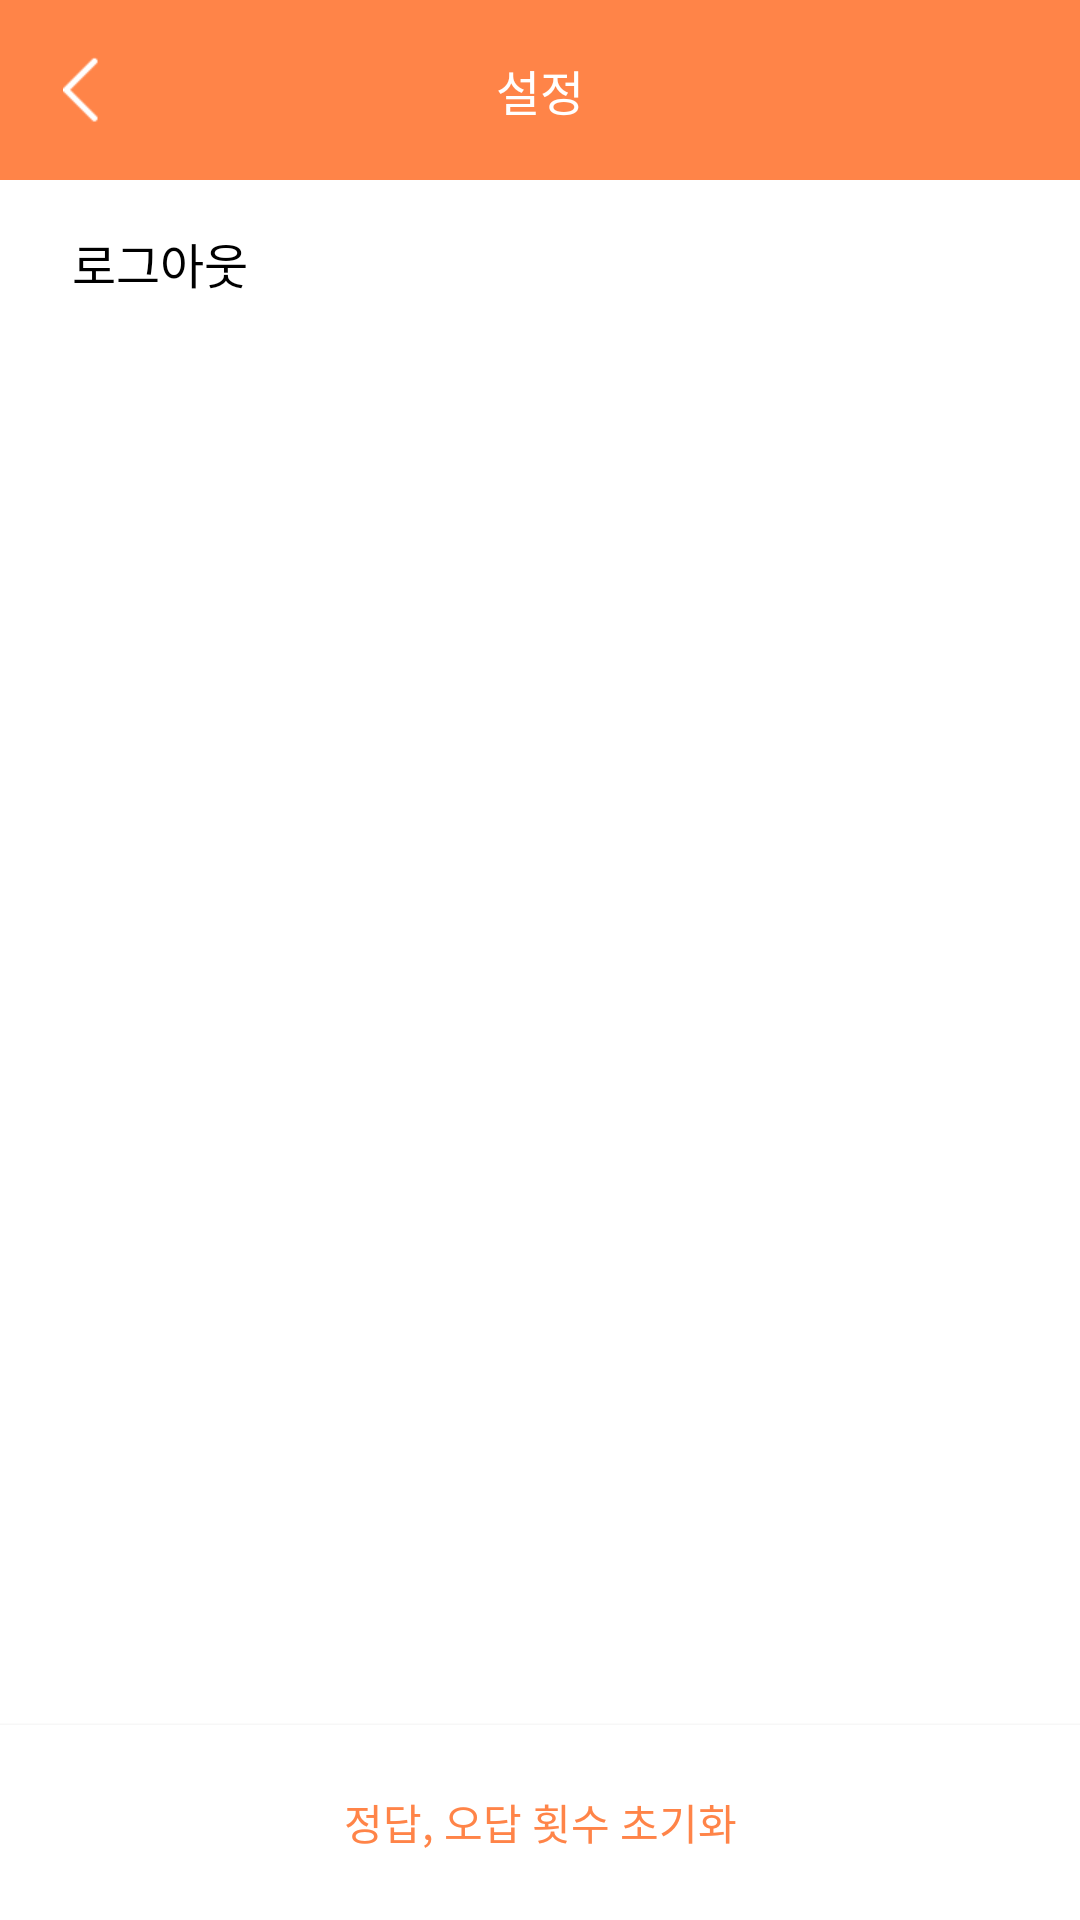

Where to tap for icons on this 1080 × 1920 app screen, as [x,y]:
left: [80,90]
